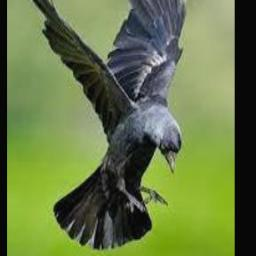Crow: (19, 0, 187, 248)
